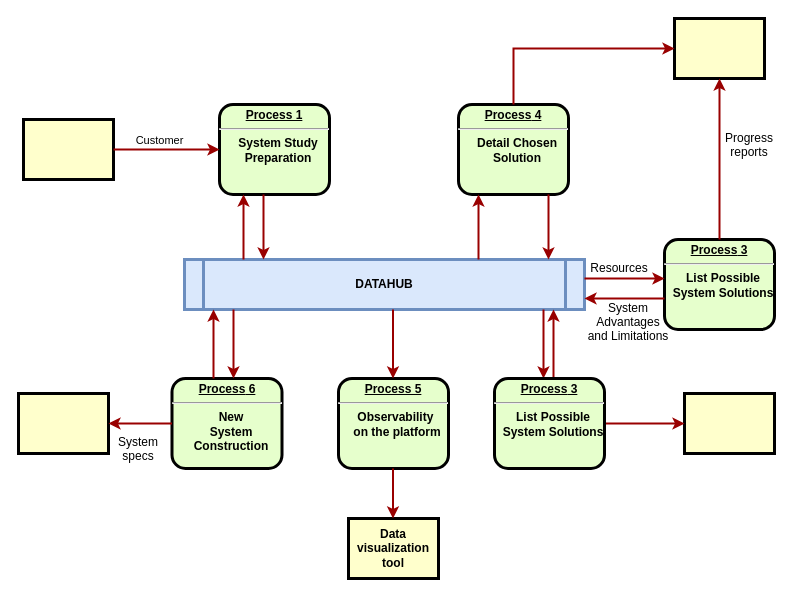
The diagram is 793 pixels wide and 597 high, and some of its shapes have lost their labels. The centre of each missing label's shape, as x and y in pixels:
Business application A: pixel 68 149
Business application C: pixel 729 423
Business application D: pixel 719 48
Business appplication B: pixel 63 423
